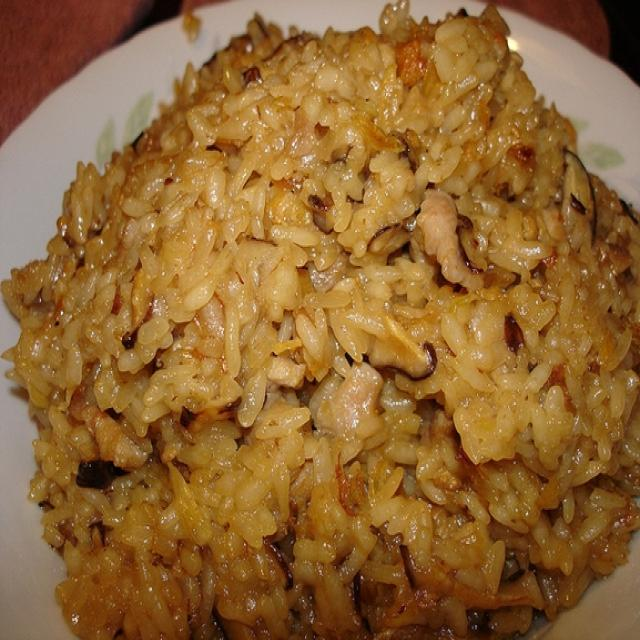米饭主食: (15, 10, 609, 634)
